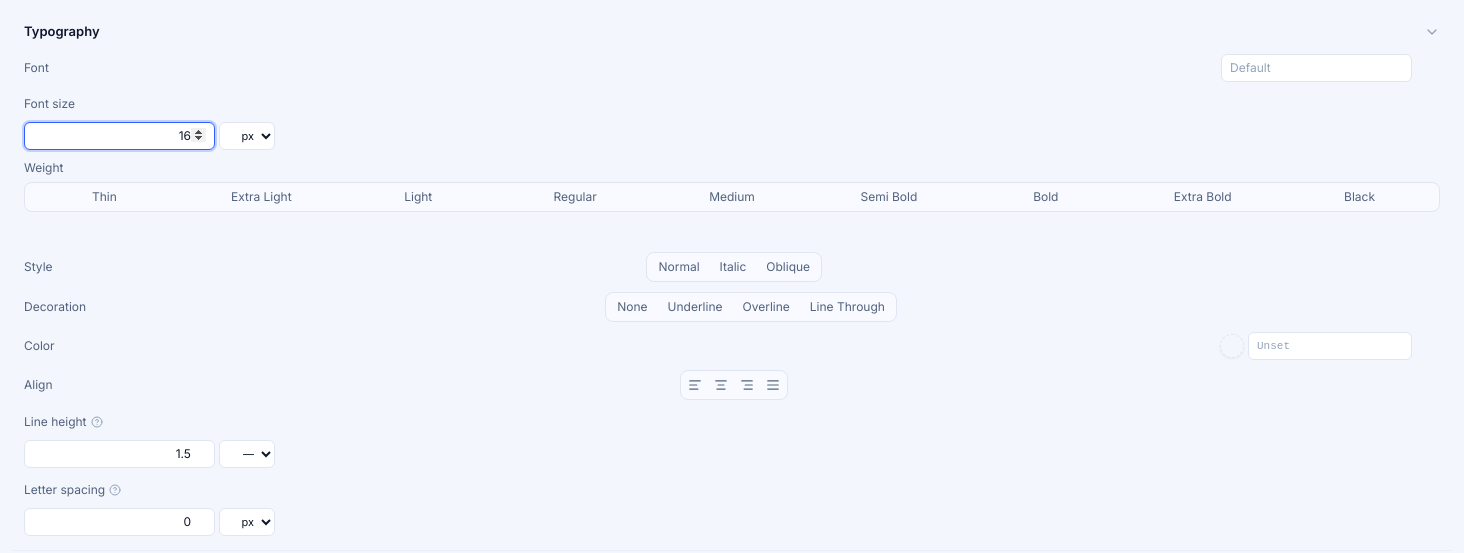
live numeric editing (BC-01.3) › Escape restores an unset property to unset: no history, project clean, transaction closed
Replace the text in the number field named "Font size" with "48". click: (120, 136)
box: [24, 122, 215, 150]
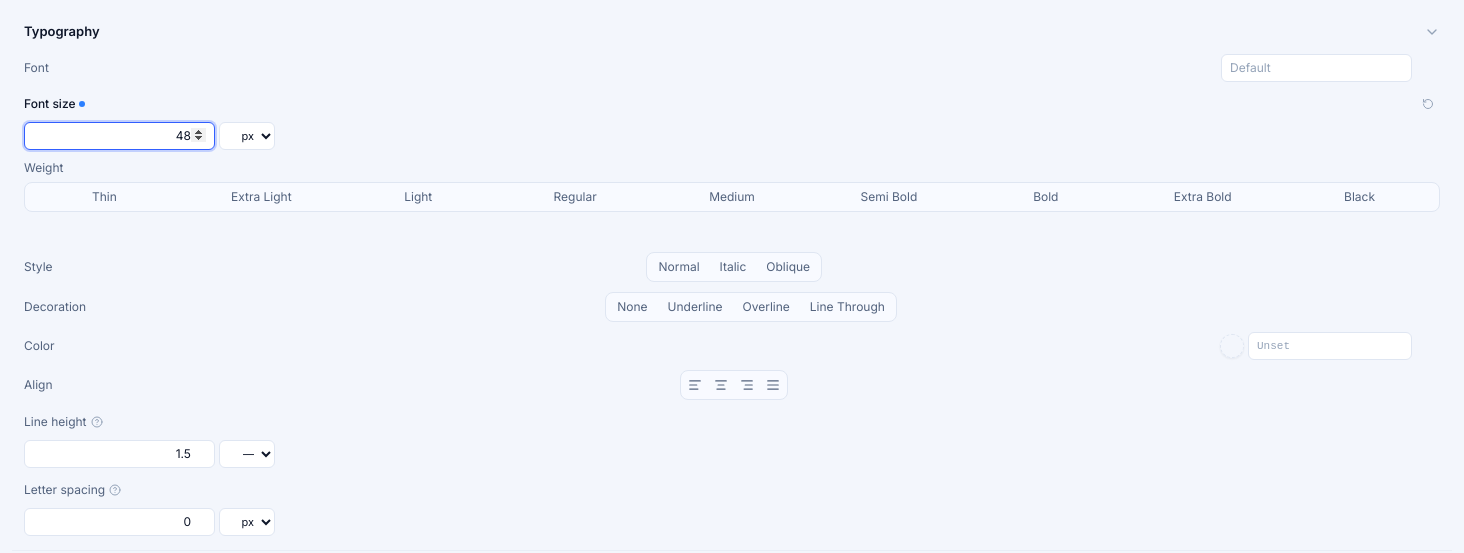
Press Escape in the number field named "Font size", box [24, 122, 215, 150]
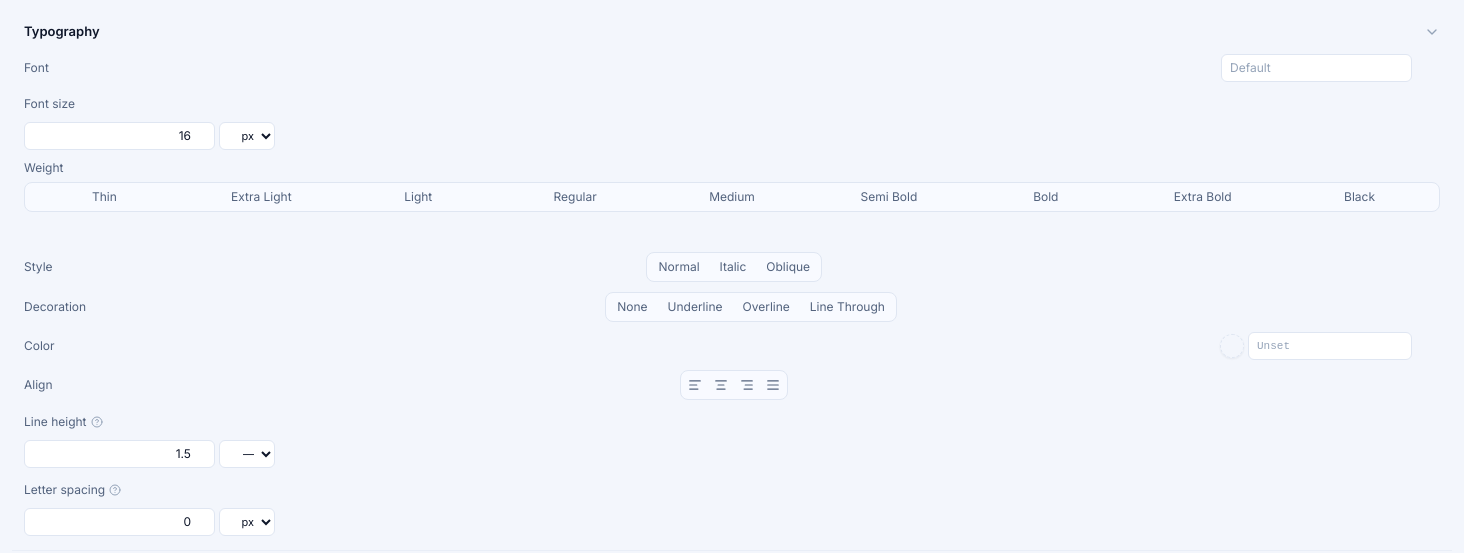
Check: the number field named "Font size" holds "16", box [24, 122, 215, 150]
